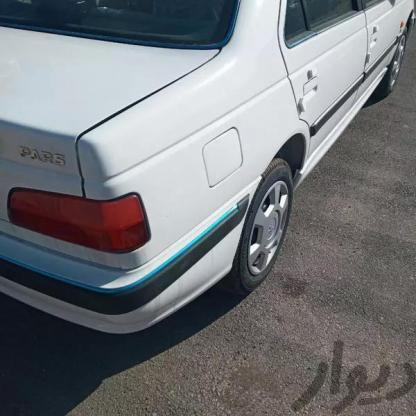Car: (0, 0, 416, 340)
